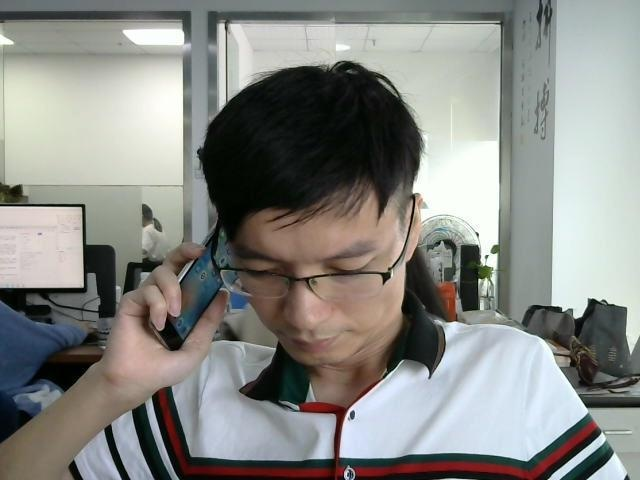hand: (116, 245, 215, 383)
